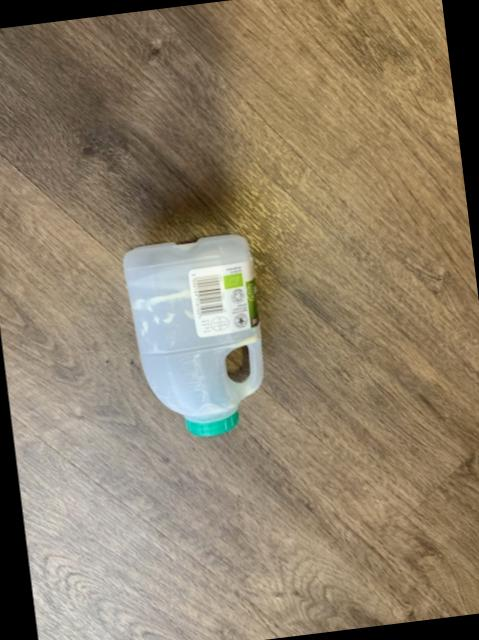plastic: (124, 235, 263, 436), (225, 346, 251, 382)
